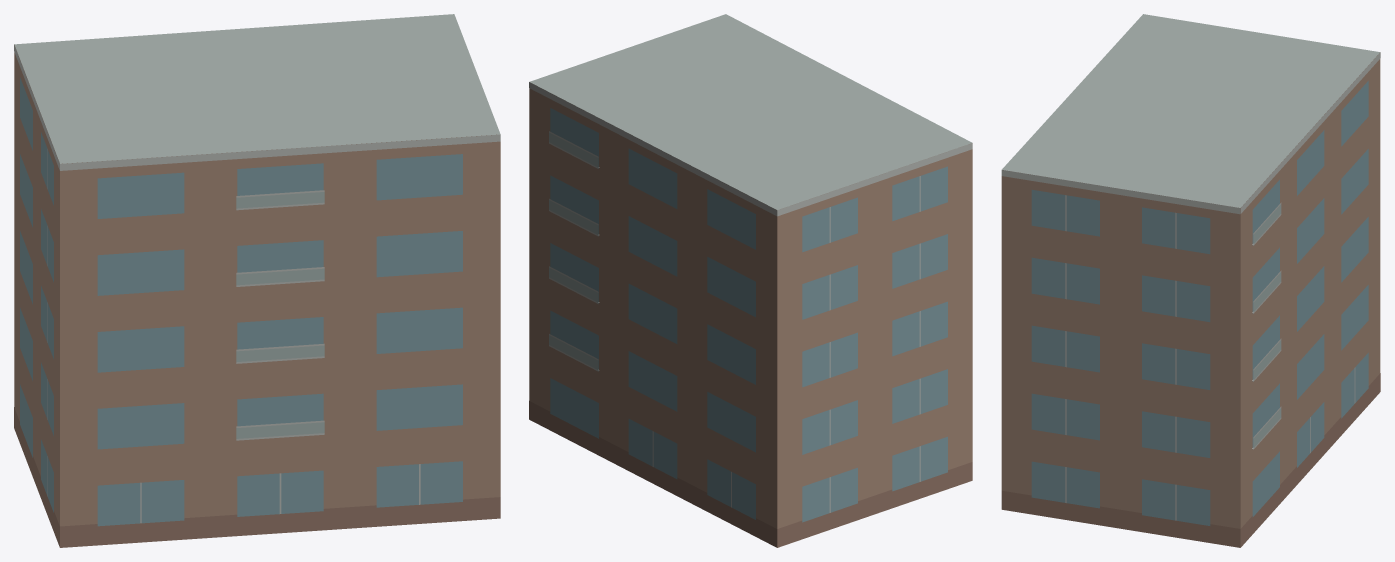
File: survey-upis-32881713.glb
3 views of the same model, side by side, from view 1: azimuth 30°, elevation 25°; view 2: azimuth 150°, elevation 25°; view 3: azimuth 270°, elevation 25° (orthographic). The views are drawn at different scales.
Parts seen in each view (by area): view 1: survey-upis-32881713.tmp; view 2: survey-upis-32881713.tmp; view 3: survey-upis-32881713.tmp.
Part boxes in pixels (<box>): survey-upis-32881713.tmp: <box>14,14,500,547</box>; survey-upis-32881713.tmp: <box>529,14,972,547</box>; survey-upis-32881713.tmp: <box>1001,14,1380,547</box>.
Size of the model in its own units: 16.17 by 13.2 by 13.34.
